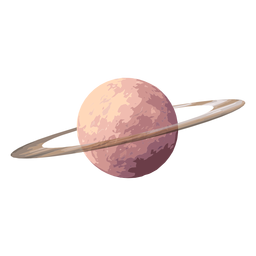planet: (11, 76, 246, 183)
